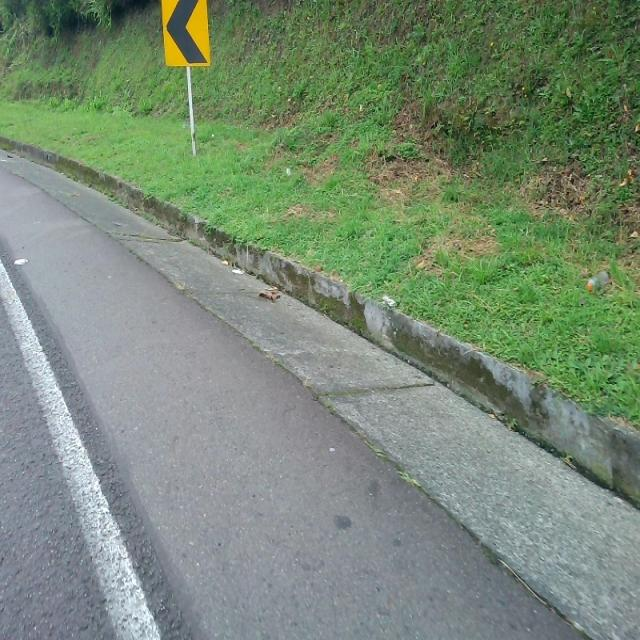DITCH: (1, 145, 638, 638)
